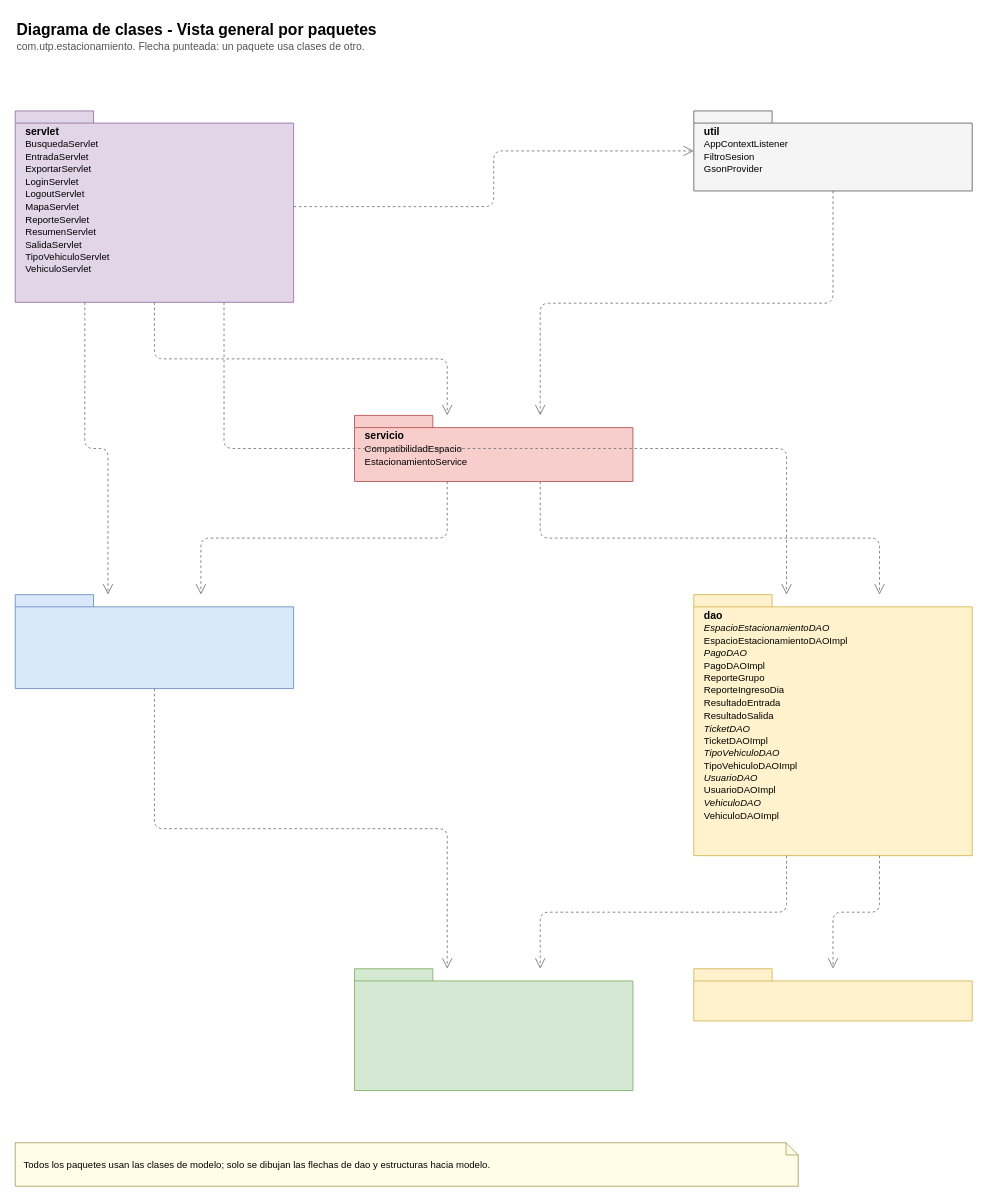
The diagram is 987 pixels wide and 1201 high, and some of its shapes have lost their labels. The shapes that lost their labels are listed below. From the top down, each one's box as (x1, y1, x2, y2) in pixels, then its label:
(14, 594, 294, 689): estructuras ArbolAVL MatrizEstacionamiento NodoAVL ResultadoBusquedaAVL
(693, 968, 972, 1021): conexion ConexionBD
(354, 968, 633, 1091): modelo EspacioEstacionamiento Pago Ticket TipoVehiculo Usuario Vehiculo
